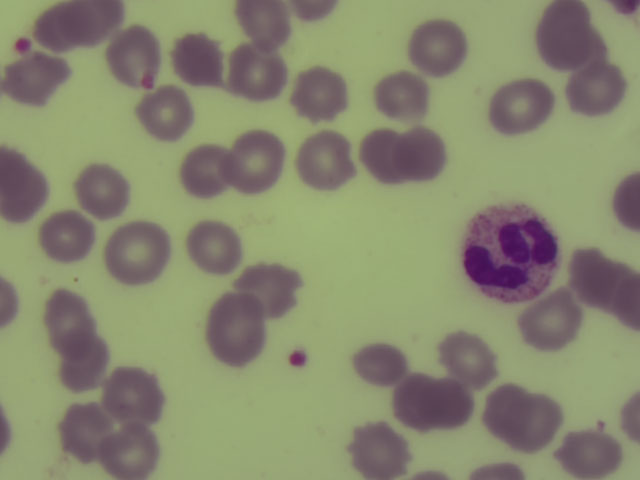Platelets: (285, 350, 308, 369), (14, 40, 31, 55)
RBC: (290, 130, 362, 193), (206, 293, 270, 363), (394, 375, 468, 434), (104, 220, 170, 284), (224, 129, 285, 192), (491, 75, 555, 134), (104, 26, 165, 87), (409, 18, 470, 77), (5, 54, 70, 107), (564, 248, 623, 306), (1, 146, 46, 221), (539, 21, 605, 72), (554, 429, 622, 477), (73, 166, 132, 220), (102, 426, 161, 480), (105, 367, 164, 421), (55, 404, 114, 458), (39, 287, 98, 341), (240, 261, 299, 315), (36, 207, 95, 261), (184, 218, 243, 272), (226, 46, 285, 100), (166, 33, 225, 87), (349, 129, 408, 183), (376, 69, 435, 123), (288, 67, 347, 121), (564, 63, 623, 117), (136, 85, 195, 139), (348, 421, 407, 475), (520, 292, 579, 346), (439, 327, 498, 381), (63, 1, 122, 54), (231, 1, 290, 54), (394, 126, 446, 181), (516, 395, 567, 450), (179, 144, 233, 195), (56, 337, 109, 388), (473, 384, 519, 439), (353, 344, 405, 388), (417, 390, 469, 434), (603, 175, 640, 228), (542, 1, 596, 36), (30, 6, 68, 49), (474, 457, 530, 480), (617, 390, 640, 443), (620, 276, 639, 339), (294, 1, 337, 26), (1, 274, 21, 325)
WBC: (463, 203, 559, 305)
